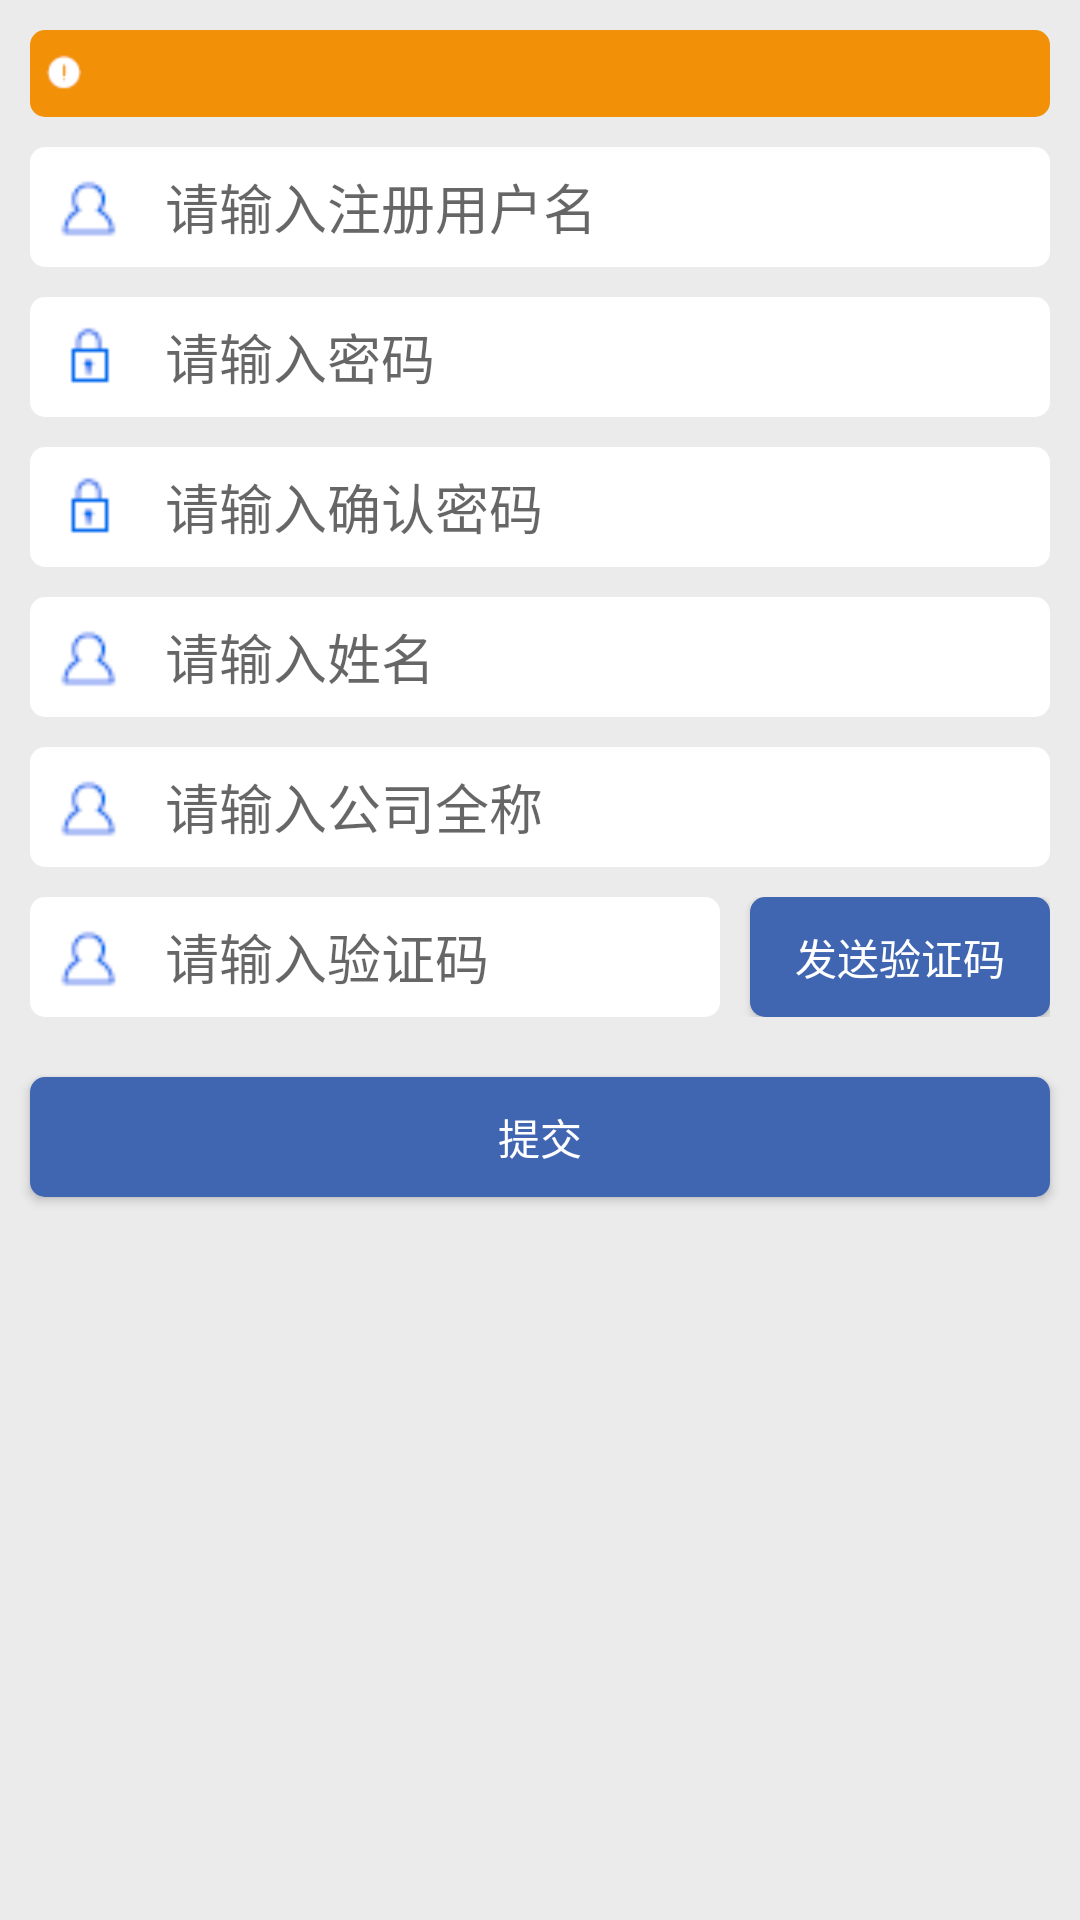

Icons on this 1080 × 1920 Android screen, each with the point to tap as point (x, y):
错误提示: point (63, 72)
